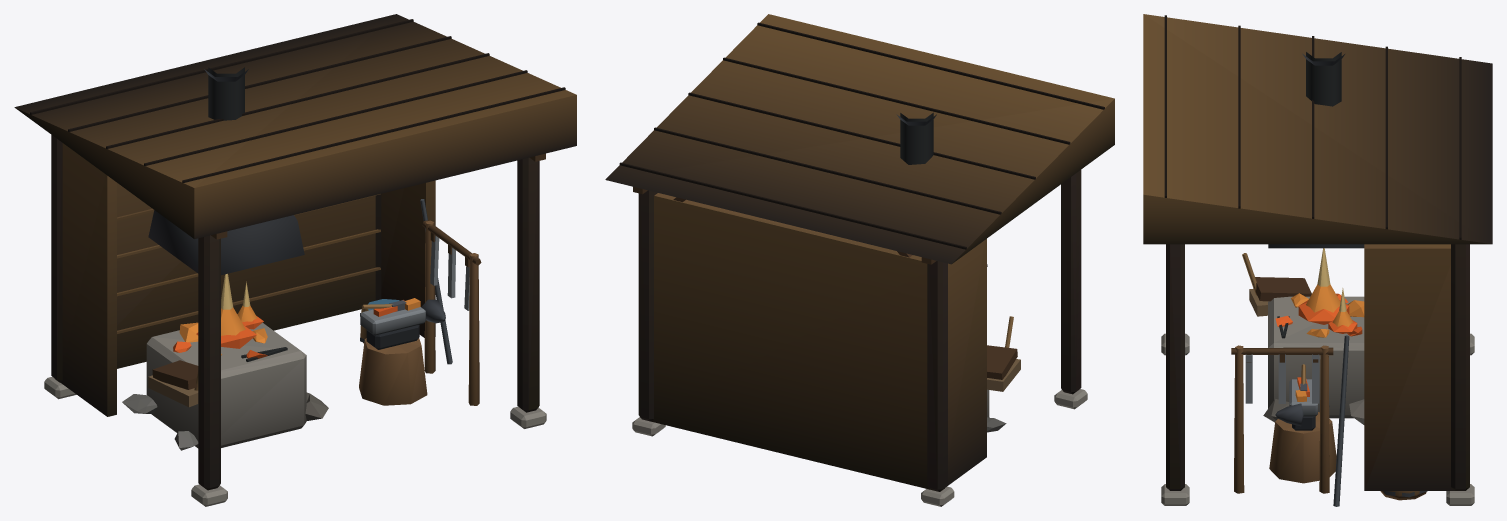
File: smithy-forge.glb
3 renders of one model, left to right at view 1: azimuth 30°, elevation 25°; view 2: azimuth 150°, elevation 25°; view 3: azimuth 270°, elevation 25°, orthographic. The views are drawn at different scales.
Visible parts, largest first — view 1: smithy_forge; view 2: smithy_forge; view 3: smithy_forge.
Boxes of the visible parts, x1=… form: smithy_forge: x1=14, y1=14, x2=576, y2=506; smithy_forge: x1=605, y1=14, x2=1114, y2=506; smithy_forge: x1=1143, y1=14, x2=1492, y2=506.
Bounding box in the file's own units: 3.6 × 3.22 × 2.94.
